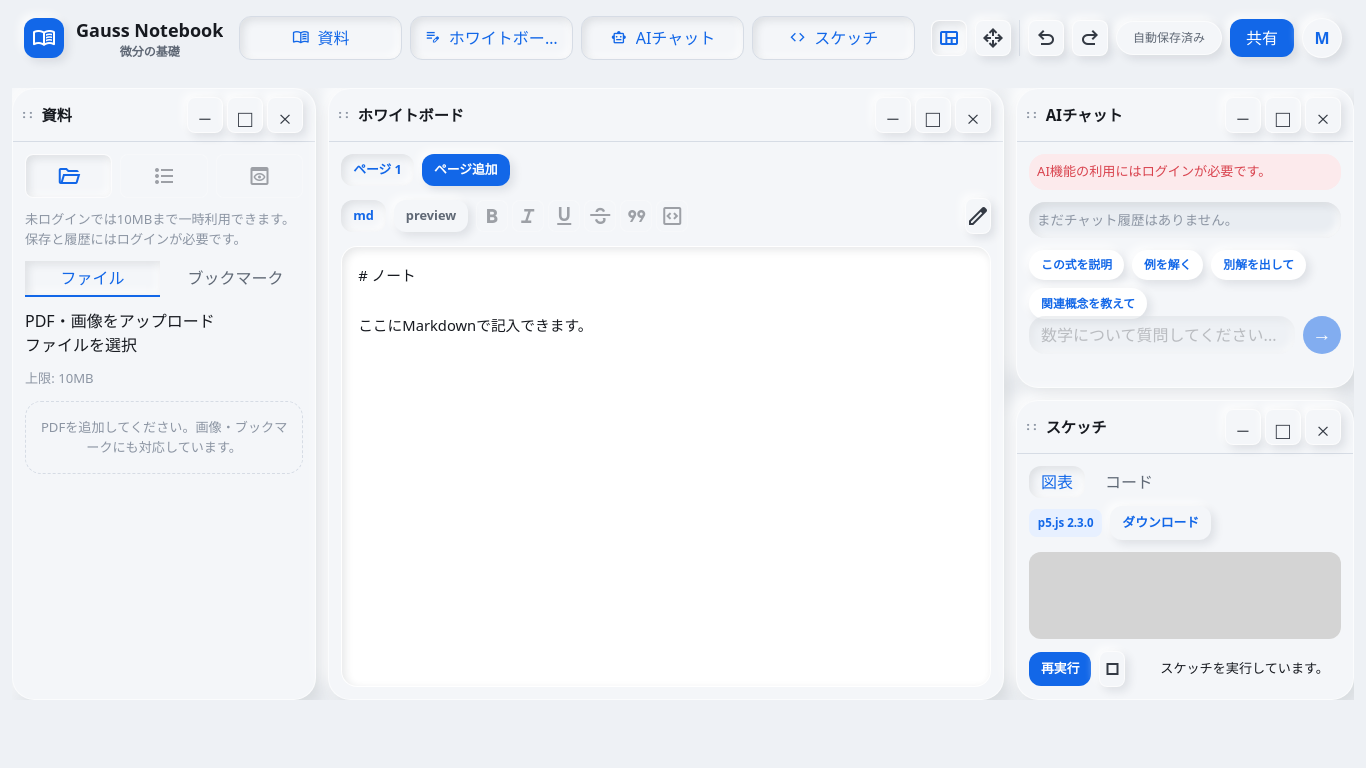
Test: WorkspaceView › 最小化したパネルをヘッダーから通常表示へ戻す
The image size is (1366, 768).
Click the 3rd button named "最小化" at (1243, 115), box top-left (1225, 97), bottom-right (1261, 133)
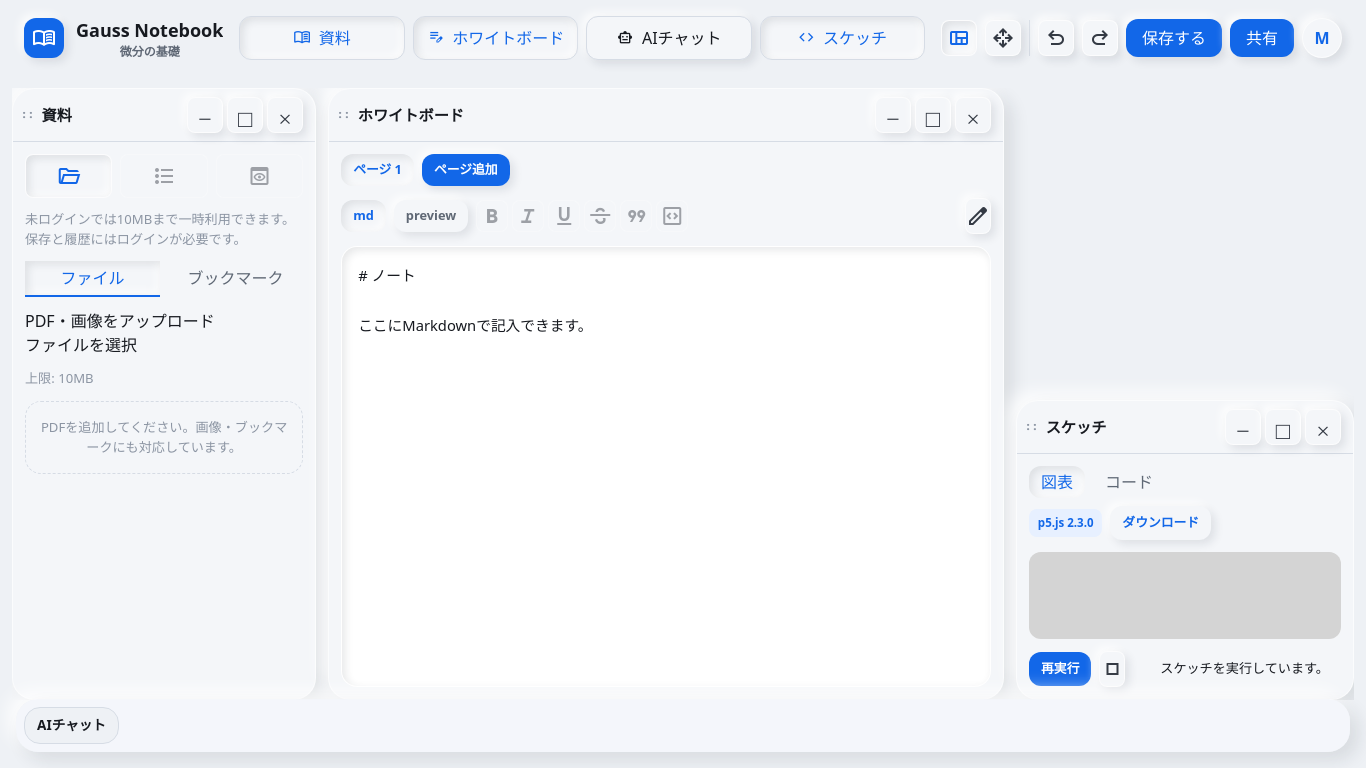
Expected: the button with class "workspace-panel-toggle" in the row of "Gauss Notebook" is not pressed
Click the button with class "workspace-panel-toggle" in the row of "Gauss Notebook" at (669, 38), box top-left (586, 16), bottom-right (752, 60)
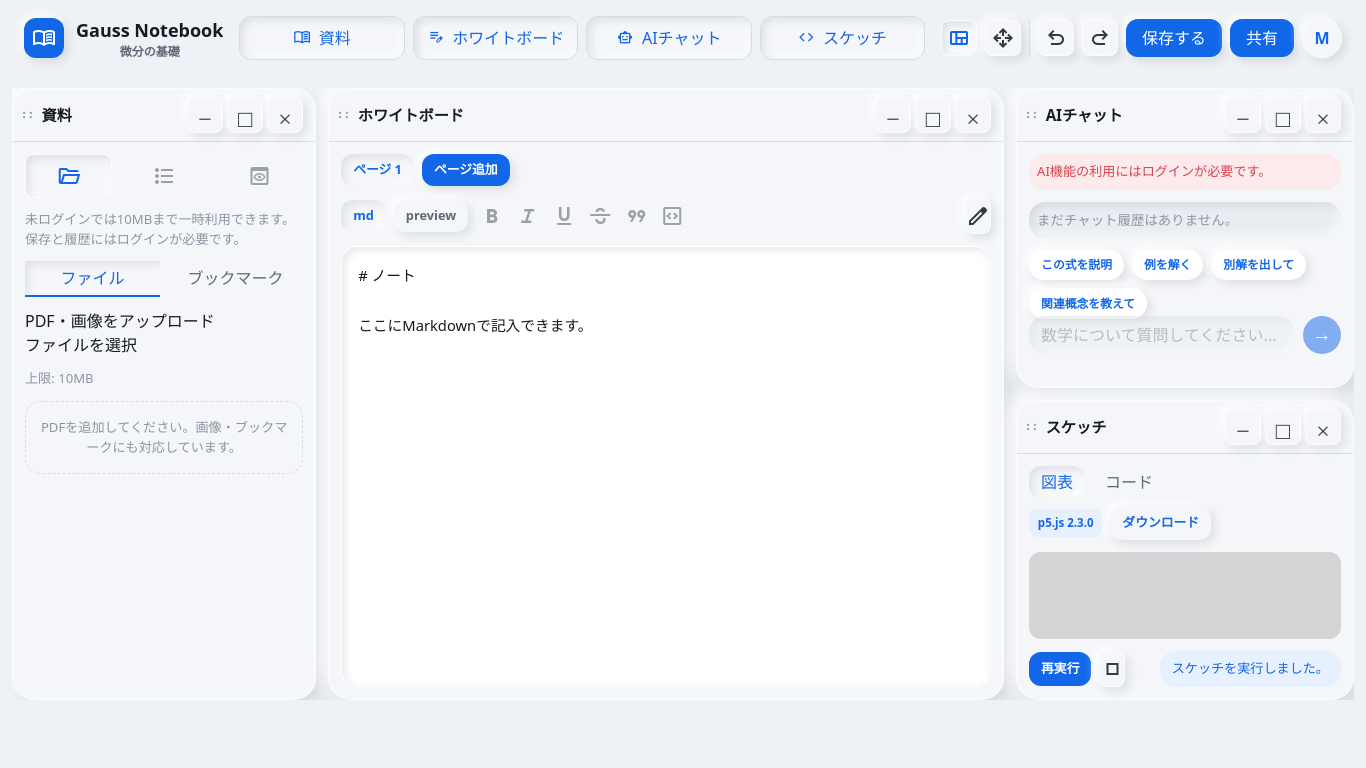
Expected: the element with class "movable-panel" that starts with "AIチャット" is shown, top-left (1016, 88), bottom-right (1354, 388)
